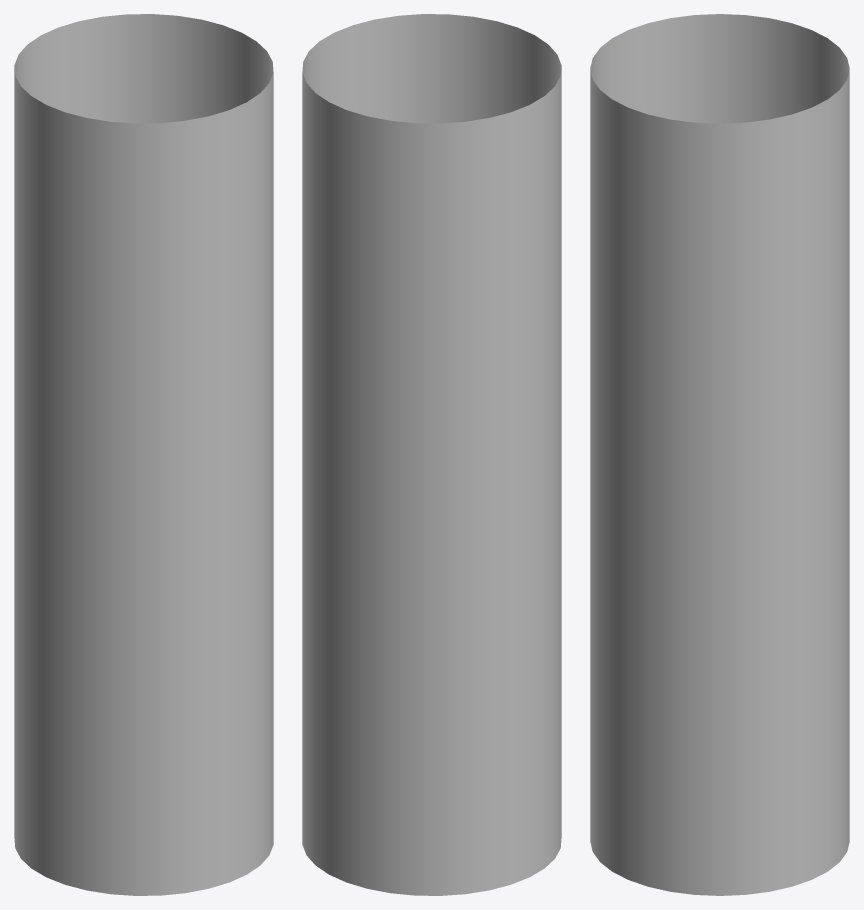
Rendered from Platform Bottom Circle.fbx.
3 renders of one model, left to right at view 1: azimuth 30°, elevation 25°; view 2: azimuth 150°, elevation 25°; view 3: azimuth 270°, elevation 25°, orthographic.
Visible parts, largest first — view 1: Platform Bottom Circle; view 2: Platform Bottom Circle; view 3: Platform Bottom Circle.
Boxes of the visible parts, <box> form: Platform Bottom Circle: <box>14,14,273,895</box>; Platform Bottom Circle: <box>302,14,561,895</box>; Platform Bottom Circle: <box>590,14,849,895</box>.
Bounding box in the file's own units: 2386 × 7829 × 2386.
